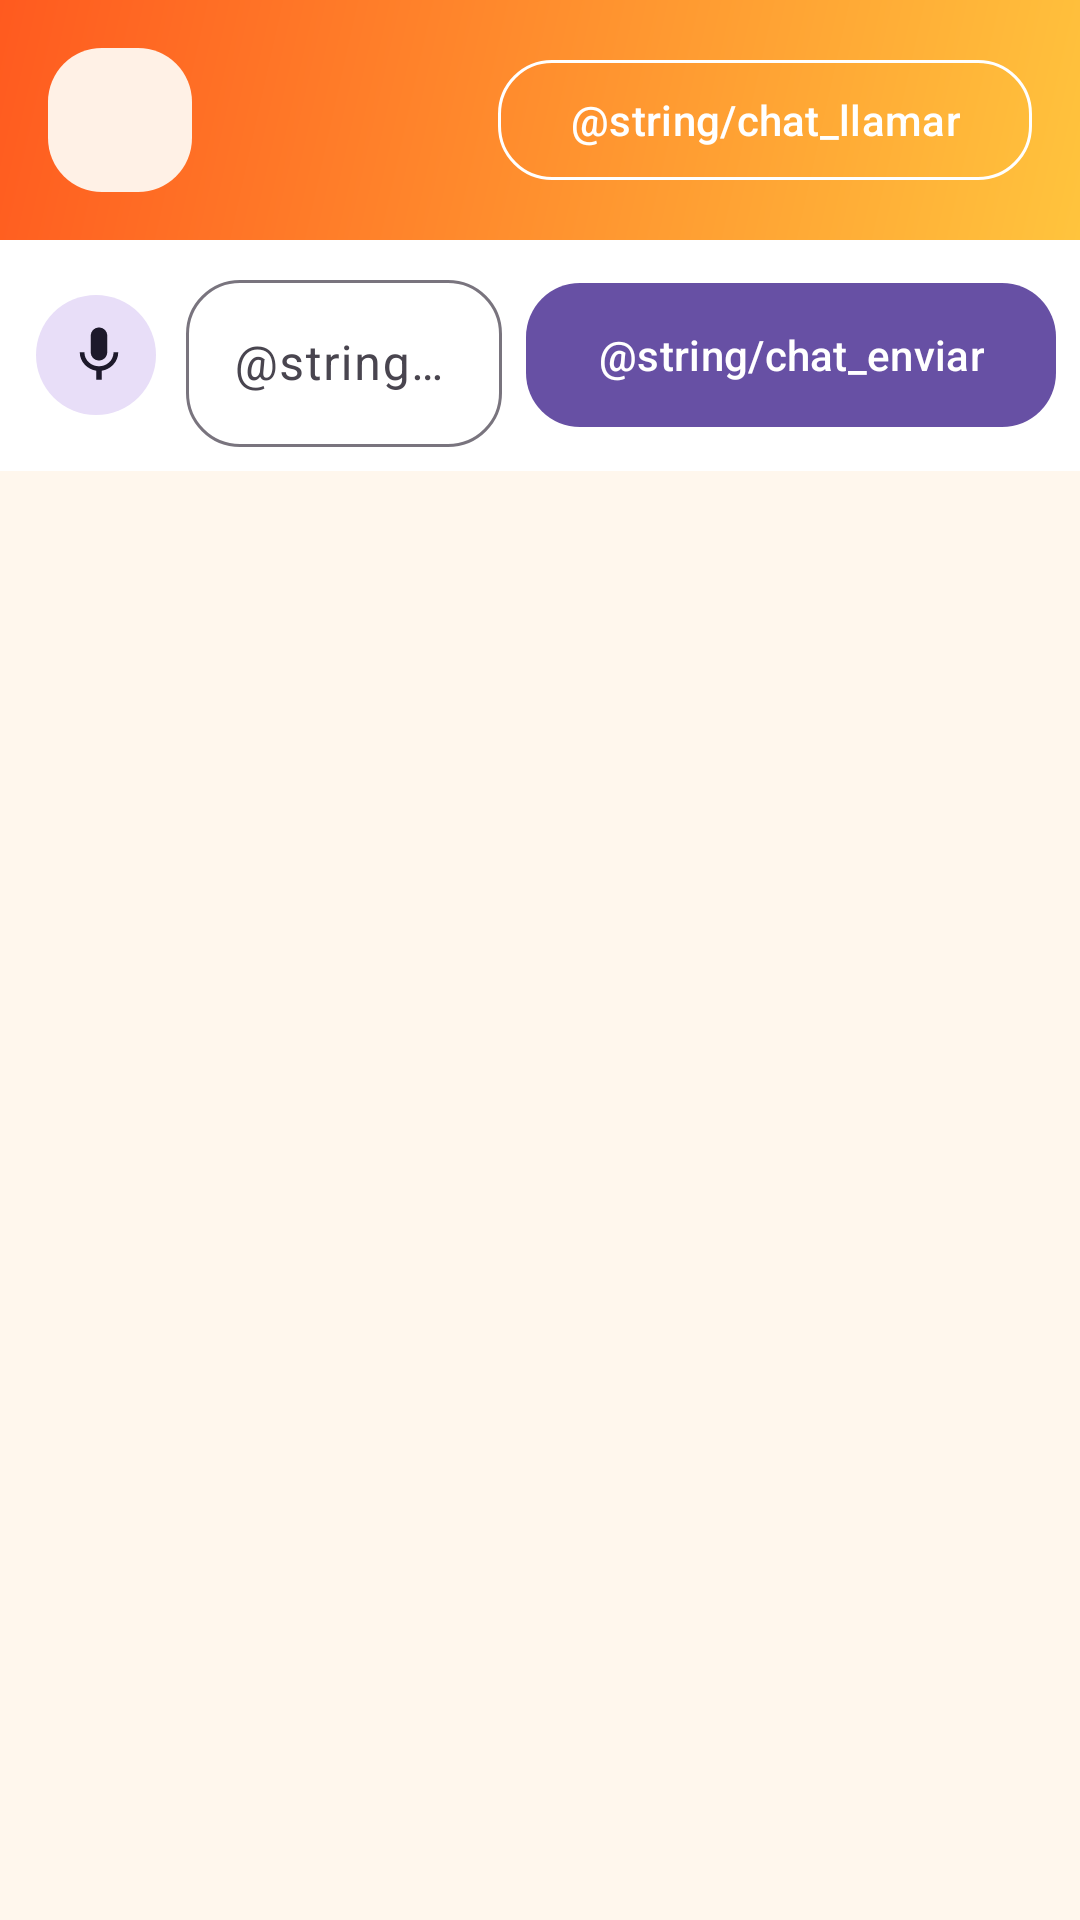

Icons on this 1080*1920 Android screen, each with the point to tap as [x,y]:
mic: [96,355]
